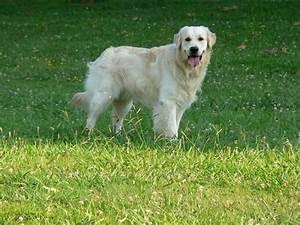dog: (70, 24, 216, 141)
